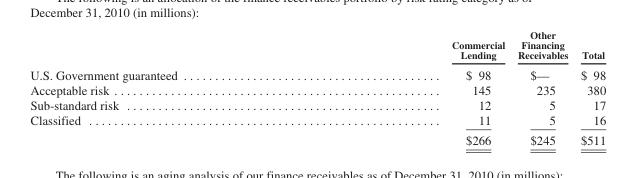table: (29, 28, 605, 147)
table column: (29, 28, 313, 147), (313, 28, 510, 147), (510, 28, 573, 147), (573, 28, 605, 147)
table column header: (29, 28, 605, 63)
table row: (29, 28, 605, 63), (29, 63, 605, 81), (29, 129, 605, 147), (29, 112, 605, 129), (29, 81, 605, 97), (29, 97, 605, 112)
